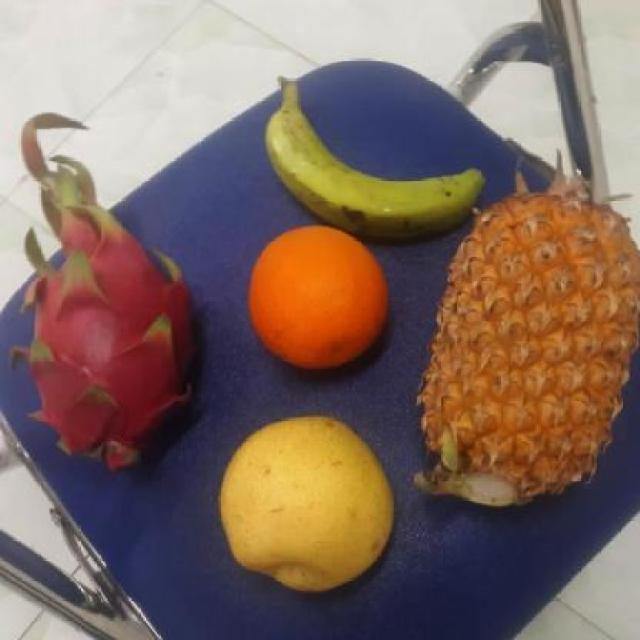banana: (268, 88, 486, 238)
dragon fruit: (13, 207, 209, 471)
oren: (249, 226, 396, 371)
pear: (218, 416, 408, 593), (247, 228, 396, 372)
pineapple: (417, 196, 640, 515)
